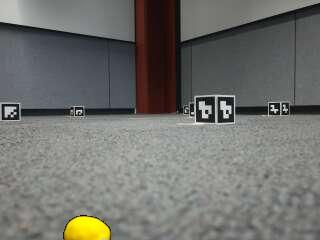lemon: (64, 216, 109, 240)
